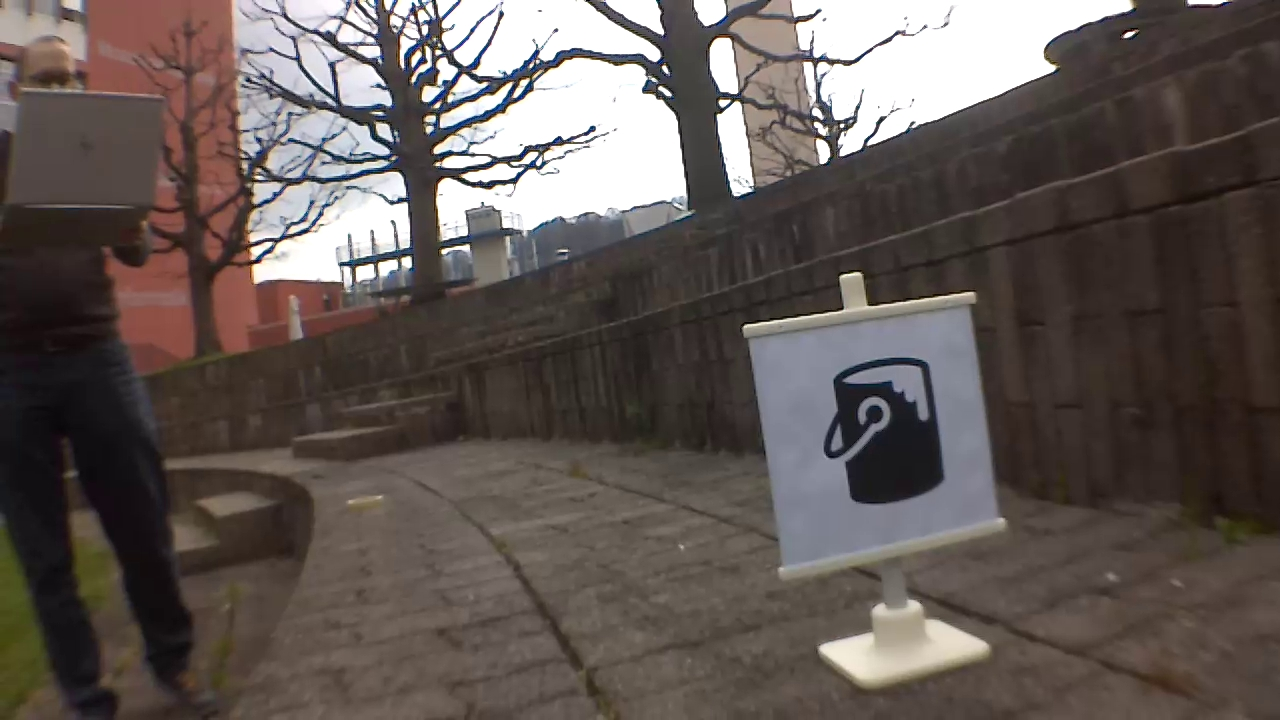bucket: (819, 355, 948, 509)
